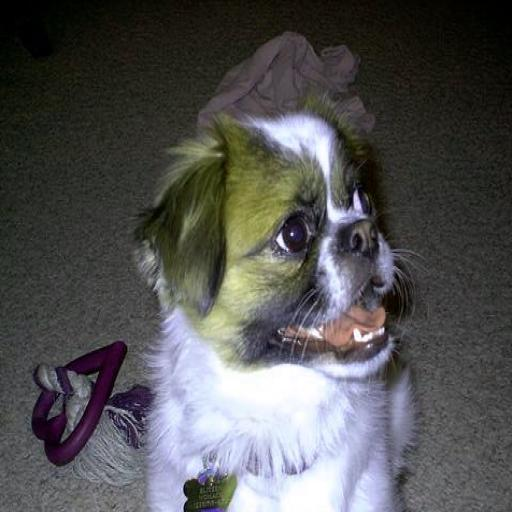dog_face: (185, 128, 400, 387)
